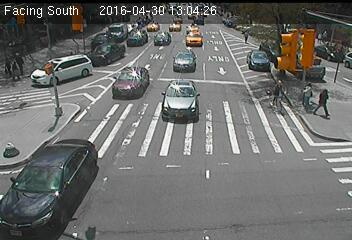neg: (261, 75, 291, 115), (273, 165, 298, 199), (164, 78, 186, 108), (1, 126, 23, 156), (65, 92, 86, 120), (122, 64, 142, 91), (192, 5, 212, 31), (71, 44, 91, 70), (217, 93, 237, 119), (43, 167, 61, 190), (104, 20, 121, 42), (195, 155, 211, 177), (151, 24, 166, 43), (84, 219, 98, 238)
pos: (307, 83, 333, 117), (298, 80, 320, 109), (5, 59, 22, 83), (9, 48, 26, 71), (318, 28, 333, 48), (312, 29, 325, 46), (1, 56, 13, 73), (241, 28, 252, 44)
